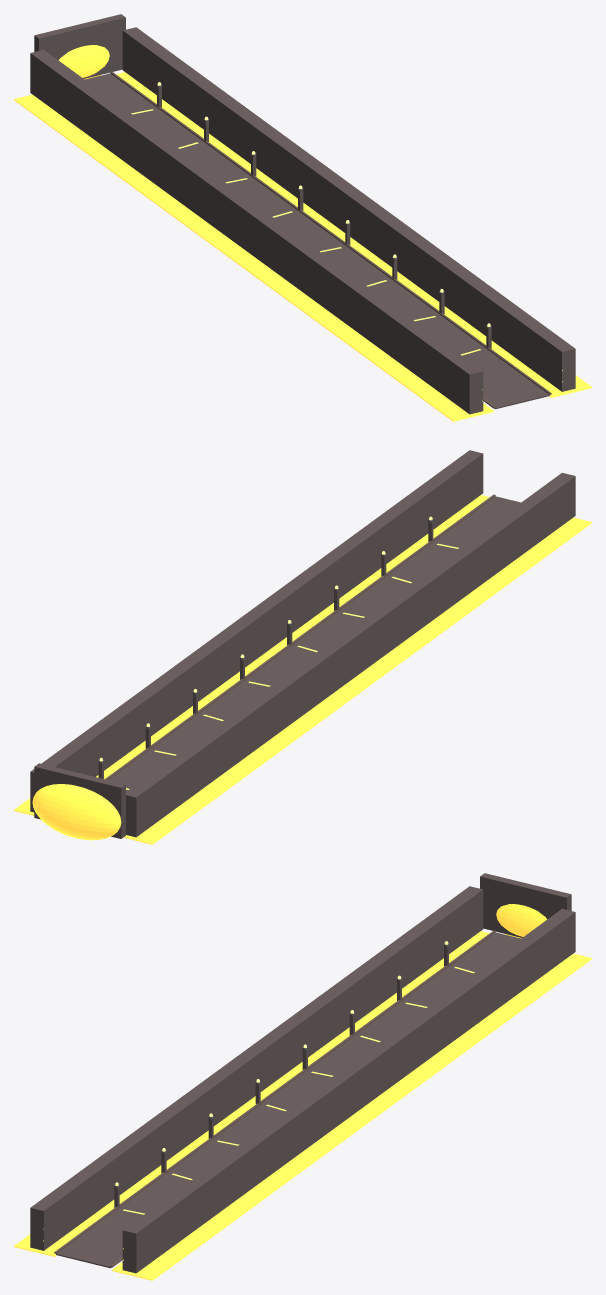
File: escenario_volcan.glb
The picture shows the model from 3 angles, top to bottom: view 1: azimuth 30°, elevation 25°; view 2: azimuth 150°, elevation 25°; view 3: azimuth 330°, elevation 25°; orthographic projection.
Parts seen in each view (by area): view 1: Volcano_CavernWall_-8.5, Volcano_CavernWall_8.5, Volcano_Floor, Volcano_LavaRiver_-9.0, Volcano_LavaRiver_9.0, Volcano_EndArch, Volcano_Curb_5.15, Volcano_MoltenCore; view 2: Volcano_CavernWall_-8.5, Volcano_CavernWall_8.5, Volcano_Floor, Volcano_LavaRiver_-9.0, Volcano_MoltenCore, Volcano_LavaRiver_9.0, Volcano_EndArch, Volcano_Curb_5.15; view 3: Volcano_CavernWall_8.5, Volcano_CavernWall_-8.5, Volcano_Floor, Volcano_LavaRiver_9.0, Volcano_LavaRiver_-9.0, Volcano_EndArch, Volcano_Curb_-5.15, Volcano_MoltenCore.
Part boxes in pixels (x1=…): Volcano_CavernWall_-8.5: x1=30, y1=49, x2=483, y2=414; Volcano_CavernWall_8.5: x1=122, y1=27, x2=575, y2=391; Volcano_Floor: x1=85, y1=73, x2=549, y2=409; Volcano_LavaRiver_-9.0: x1=14, y1=94, x2=493, y2=421; Volcano_LavaRiver_9.0: x1=116, y1=72, x2=591, y2=397; Volcano_EndArch: x1=34, y1=14, x2=125, y2=78; Volcano_Curb_5.15: x1=110, y1=71, x2=551, y2=394; Volcano_MoltenCore: x1=59, y1=45, x2=109, y2=79; Volcano_CavernWall_-8.5: x1=126, y1=472, x2=575, y2=837; Volcano_CavernWall_8.5: x1=30, y1=450, x2=483, y2=812; Volcano_Floor: x1=108, y1=496, x2=520, y2=791; Volcano_LavaRiver_-9.0: x1=124, y1=517, x2=591, y2=844; Volcano_MoltenCore: x1=32, y1=784, x2=121, y2=840; Volcano_LavaRiver_9.0: x1=14, y1=495, x2=489, y2=815; Volcano_EndArch: x1=34, y1=763, x2=125, y2=838; Volcano_Curb_5.15: x1=105, y1=494, x2=495, y2=779; Volcano_CavernWall_8.5: x1=122, y1=908, x2=575, y2=1273; Volcano_CavernWall_-8.5: x1=30, y1=886, x2=483, y2=1250; Volcano_Floor: x1=56, y1=932, x2=520, y2=1268; Volcano_LavaRiver_9.0: x1=112, y1=953, x2=591, y2=1280; Volcano_LavaRiver_-9.0: x1=14, y1=931, x2=489, y2=1256; Volcano_EndArch: x1=480, y1=873, x2=571, y2=937; Volcano_Curb_-5.15: x1=54, y1=930, x2=495, y2=1253; Volcano_MoltenCore: x1=496, y1=904, x2=546, y2=938.
Bounding box in the file's own units: 25.5 × 10.5 × 144.
